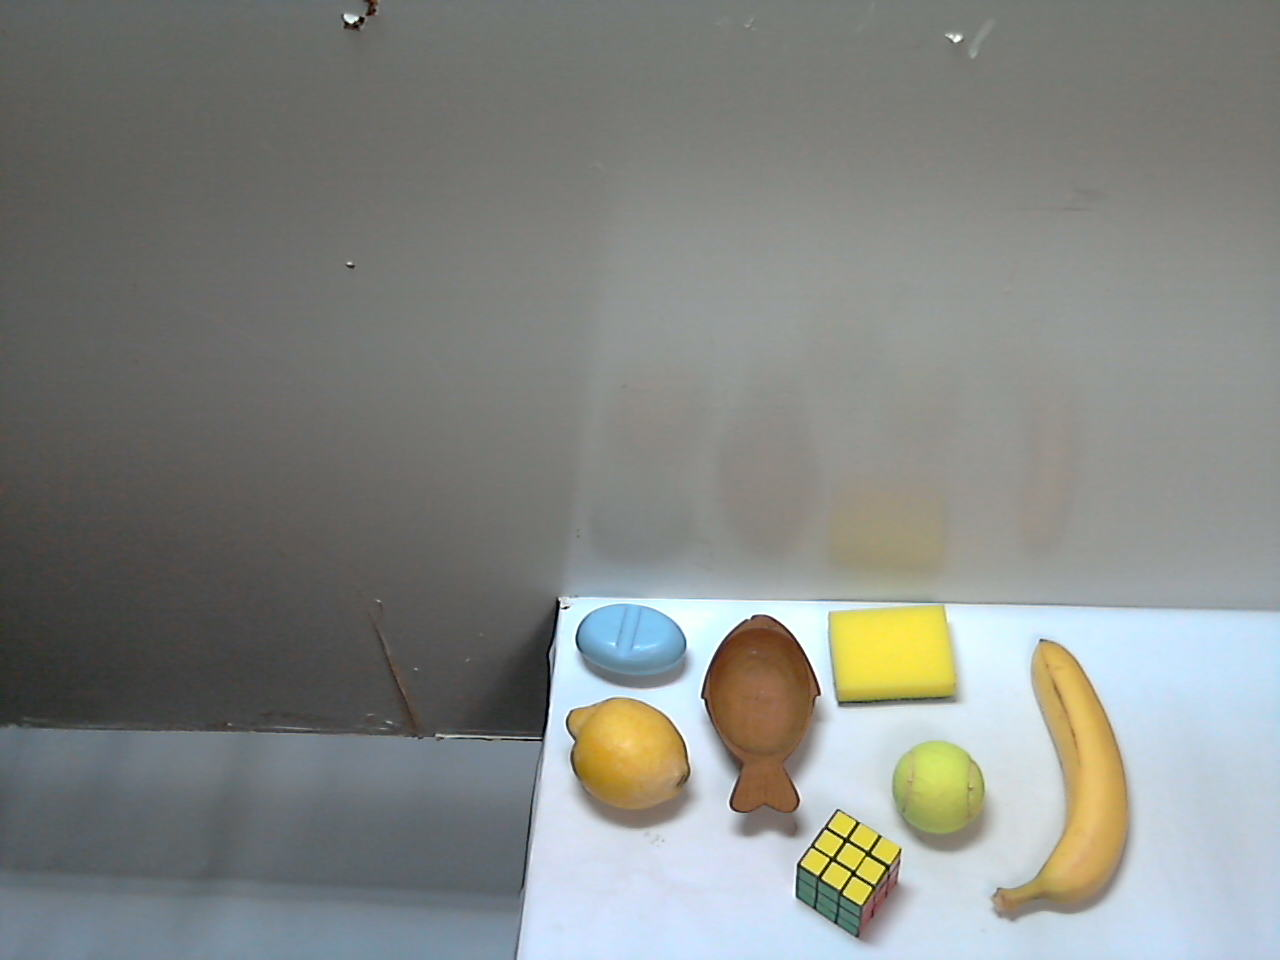azucarero: (717, 623, 863, 773)
borrador: (767, 767, 877, 960)
esponja: (871, 819, 1001, 960)
guante: (896, 594, 1209, 960)
platano: (482, 819, 768, 960)
platoperro: (436, 644, 738, 916)
